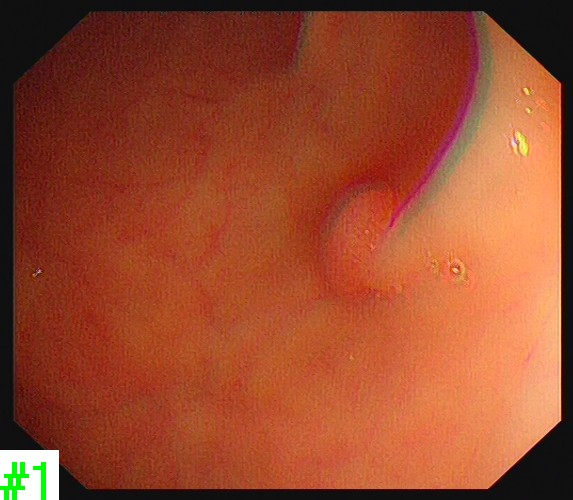adenoma: (308, 177, 415, 304)
